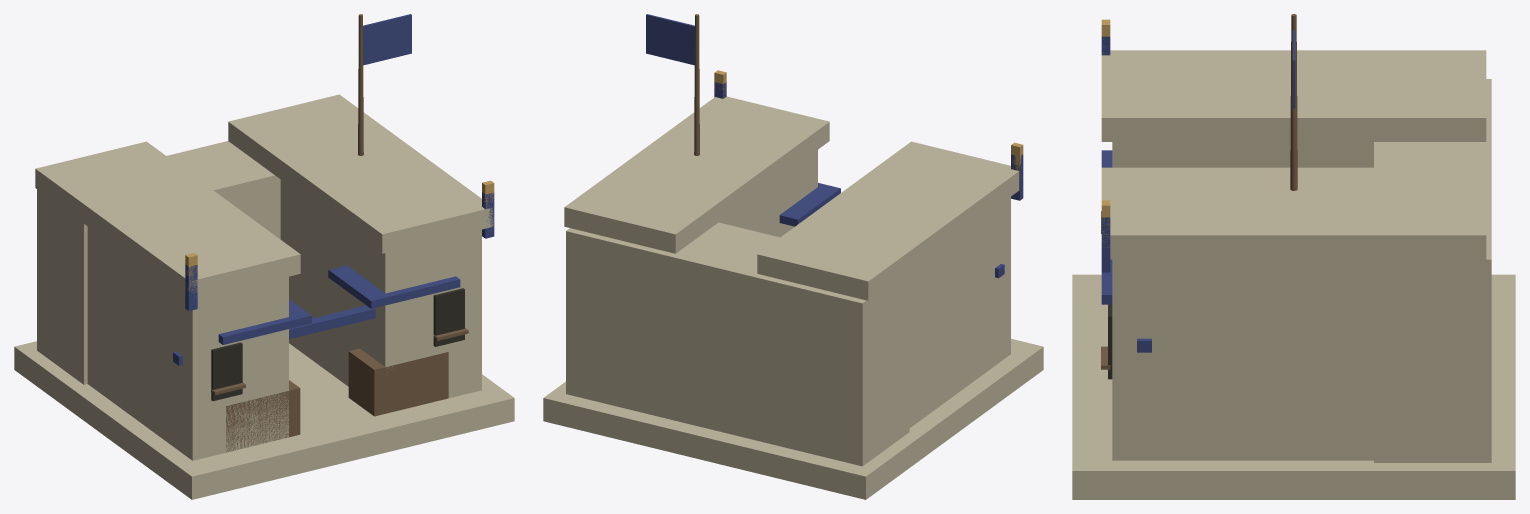
File: b-market-persian.glb
3 views of the same model, side by side, from view 1: azimuth 30°, elevation 25°; view 2: azimuth 150°, elevation 25°; view 3: azimuth 270°, elevation 25° (orthographic). The views are drawn at different scales.
Parts seen in each view (by area): view 1: Structure, era1, era3; view 2: Structure; view 3: Structure, era2.
Boxes of the visible parts, x1=… form: Structure: x1=14, y1=14, x2=514, y2=499; era1: x1=185, y1=201, x2=494, y2=310; era3: x1=185, y1=180, x2=494, y2=291; Structure: x1=543, y1=14, x2=1043, y2=499; Structure: x1=1072, y1=14, x2=1515, y2=499; era2: x1=1101, y1=36, x2=1110, y2=260.
Size of the model in its own units: 4.35 by 4.6 by 4.15.
